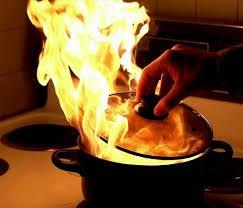fire: (30, 2, 153, 170)
